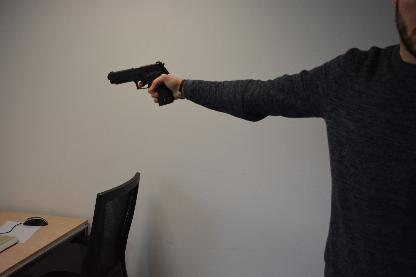pistol: (106, 60, 174, 105)
